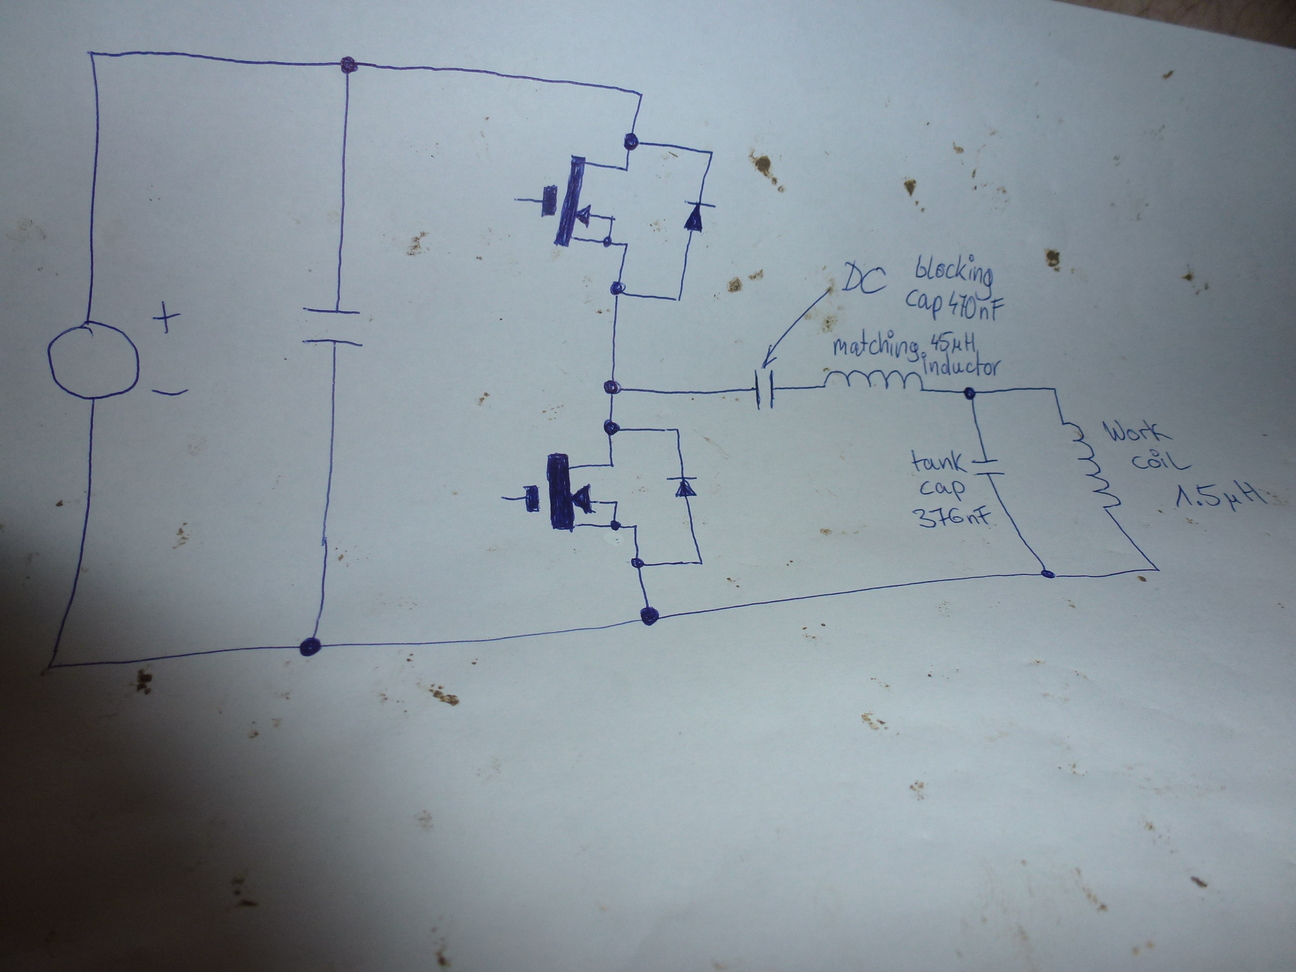capacitor.unpolarized: (298, 303, 368, 352), (752, 364, 778, 410), (970, 456, 1009, 480)
diode: (679, 197, 718, 235), (666, 471, 702, 503)
inductor: (1060, 420, 1124, 511), (821, 364, 925, 397)
junction: (295, 631, 326, 660), (335, 53, 362, 79), (636, 604, 663, 629), (601, 376, 626, 399), (608, 279, 629, 301), (37, 657, 57, 679), (960, 384, 981, 404), (601, 417, 621, 436), (622, 130, 641, 151), (1038, 566, 1059, 582), (1146, 560, 1164, 577), (630, 554, 647, 572), (83, 45, 99, 61), (632, 87, 646, 101), (1047, 382, 1062, 395), (670, 423, 684, 437), (693, 554, 707, 568), (672, 292, 684, 305), (706, 147, 717, 158)
terminal: (496, 491, 509, 504), (509, 193, 524, 205)
text: (912, 250, 995, 302), (830, 324, 921, 364), (1168, 478, 1270, 513), (903, 288, 1004, 322), (1098, 415, 1174, 445), (919, 349, 1001, 377), (908, 503, 993, 530), (838, 258, 889, 297), (906, 447, 969, 475), (1130, 446, 1192, 472), (928, 328, 977, 355), (917, 478, 967, 502)
transistor: (517, 450, 640, 536), (538, 153, 632, 251)
voltage.dc: (39, 315, 145, 406)
